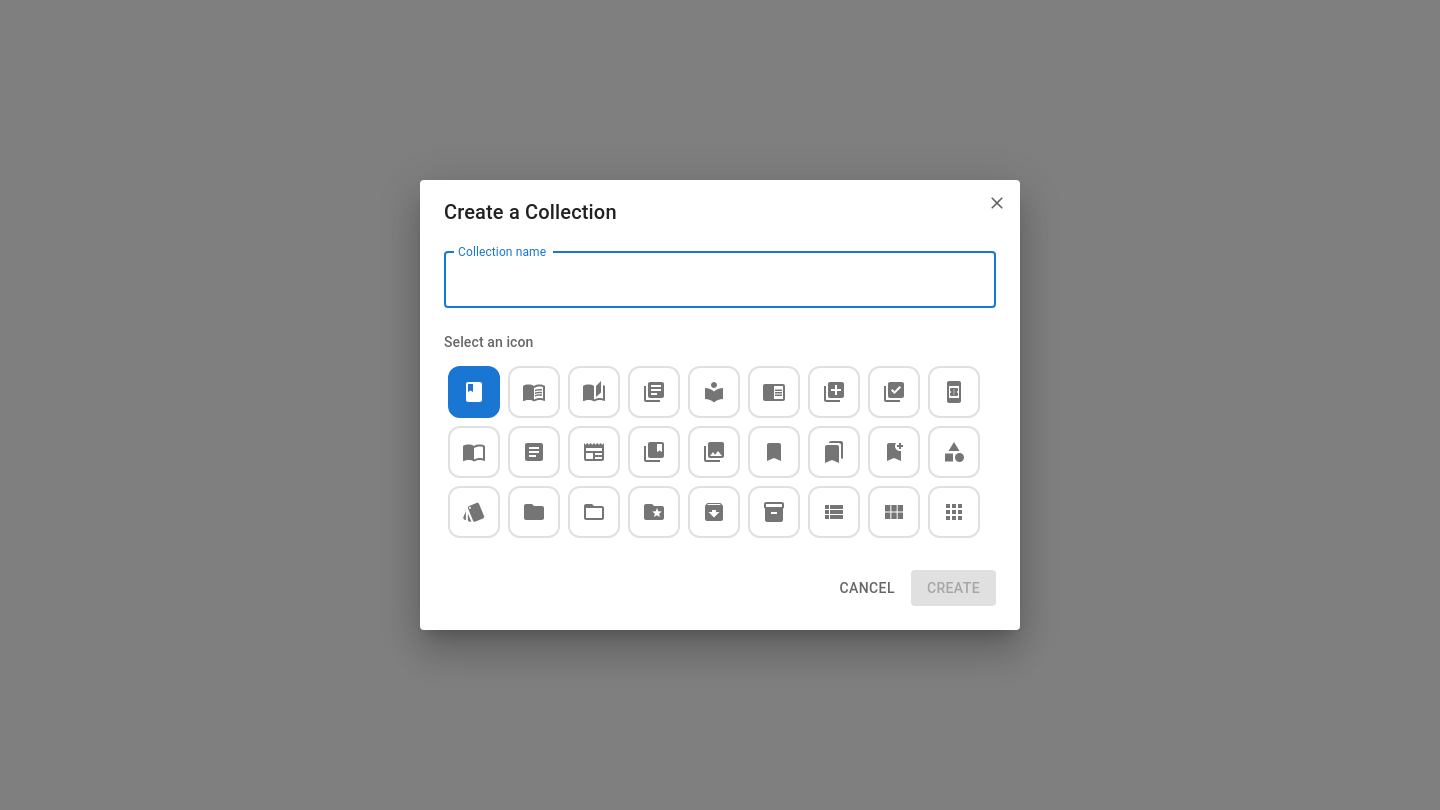
Test: CreateBookshelfDialog › should enable create button only when name is entered
Expected: the button "Create" is disabled, [911,570,996,606]
Type "My Bookshelf" into the field labelled "Collection name" at (720, 280), box [444,252,996,308]
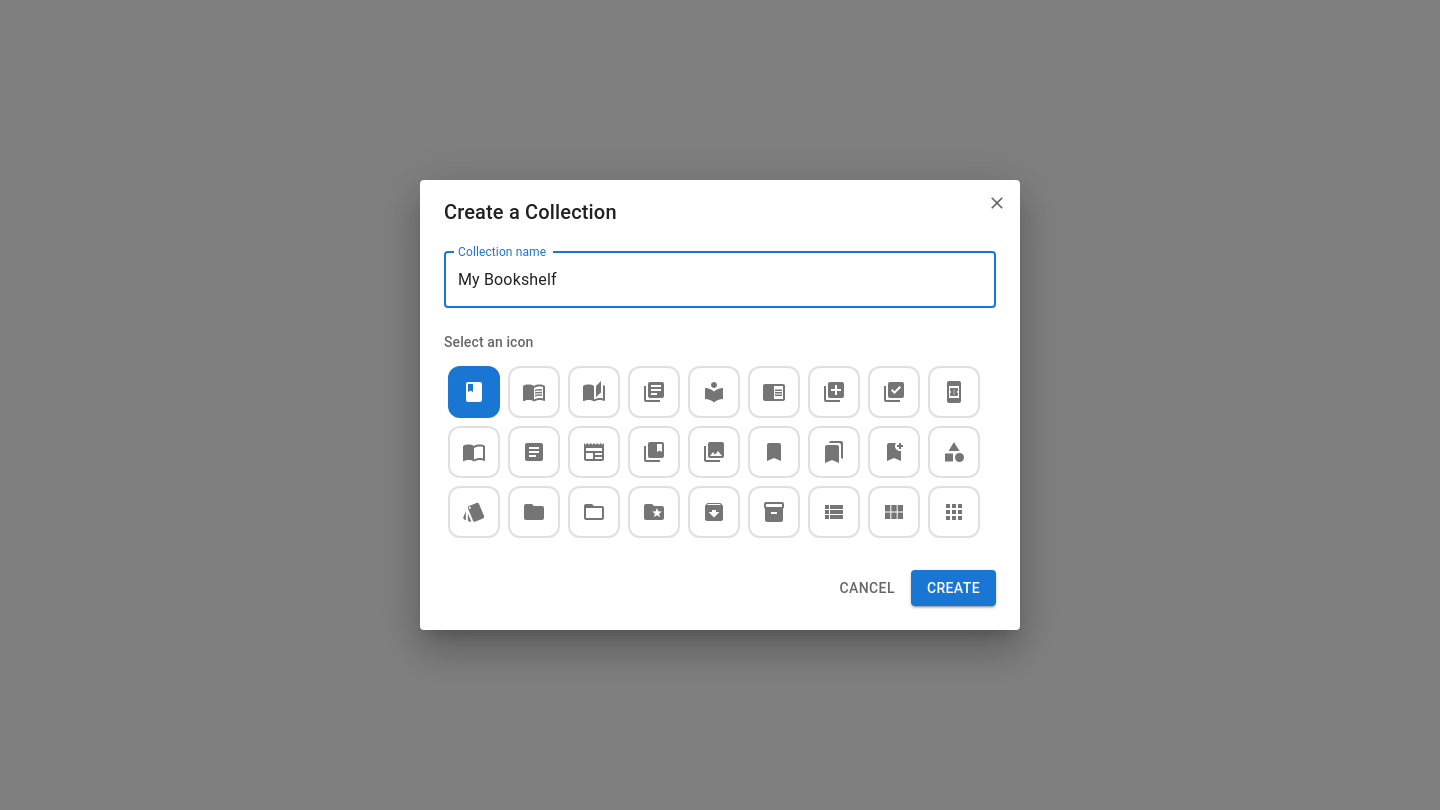
Expected: the button "Create" is enabled, [911,570,996,606]
